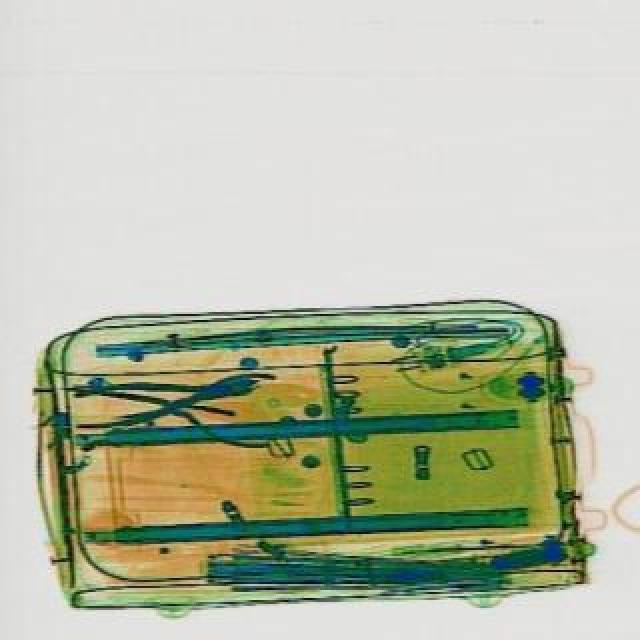wrench: (72, 360, 260, 432), (114, 368, 274, 448)
